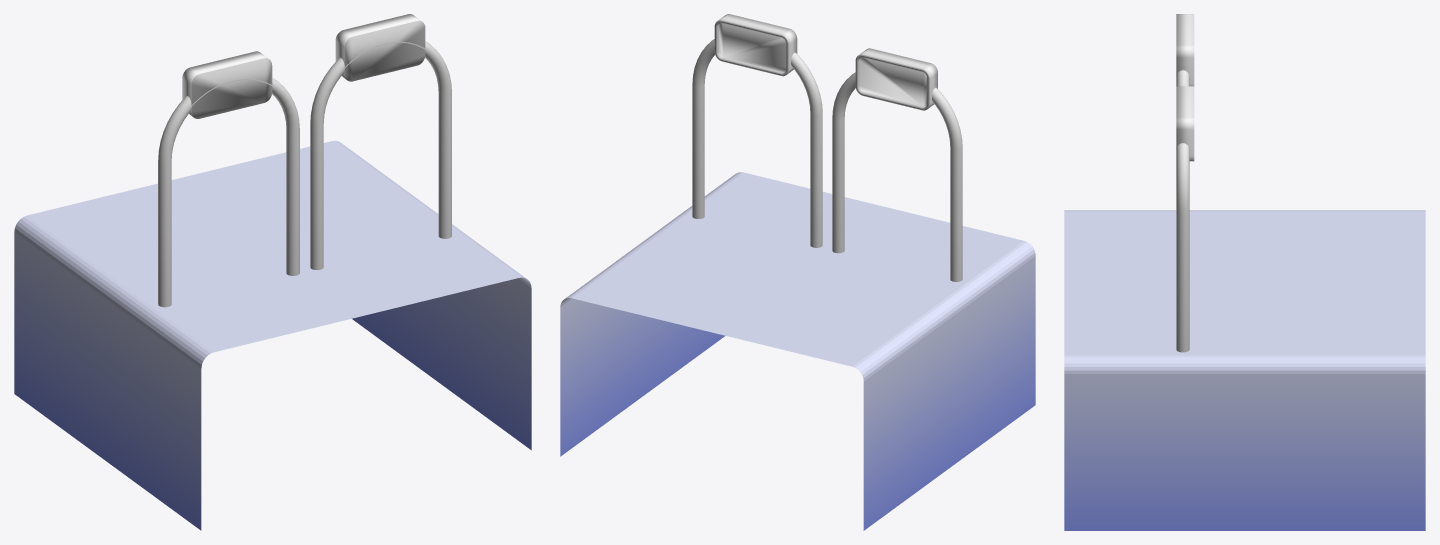
The model's file is cashierrun_platform&gates.fbx.
3 views of the same model, side by side, from view 1: azimuth 30°, elevation 25°; view 2: azimuth 150°, elevation 25°; view 3: azimuth 270°, elevation 25° (orthographic). The views are drawn at different scales.
Visible parts, largest first — view 1: cashierrun_platform, cashierrun_gate_01, cashierrun_gate_02; view 2: cashierrun_platform, cashierrun_gate_02, cashierrun_gate_01; view 3: cashierrun_platform, cashierrun_gate_02, cashierrun_gate_01.
Part boxes in pixels (x1,y1,x2,y2): cashierrun_platform: [14, 140, 531, 530]; cashierrun_gate_01: [158, 51, 299, 307]; cashierrun_gate_02: [310, 14, 451, 269]; cashierrun_platform: [560, 172, 1035, 530]; cashierrun_gate_02: [692, 14, 822, 247]; cashierrun_gate_01: [832, 48, 962, 281]; cashierrun_platform: [1064, 210, 1425, 530]; cashierrun_gate_02: [1176, 86, 1194, 352]; cashierrun_gate_01: [1176, 14, 1194, 86].
Bounding box in the file's own units: 11.9 × 13.8 × 11.68.
